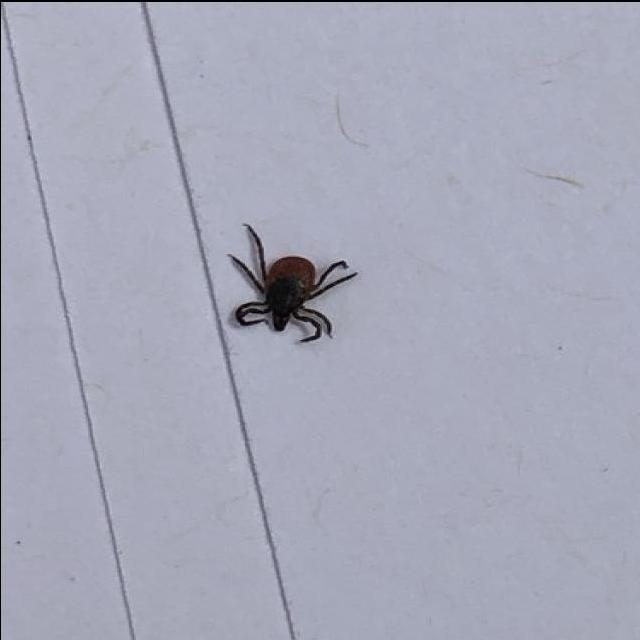Ixodes Ricinus-F: (225, 223, 355, 344)
